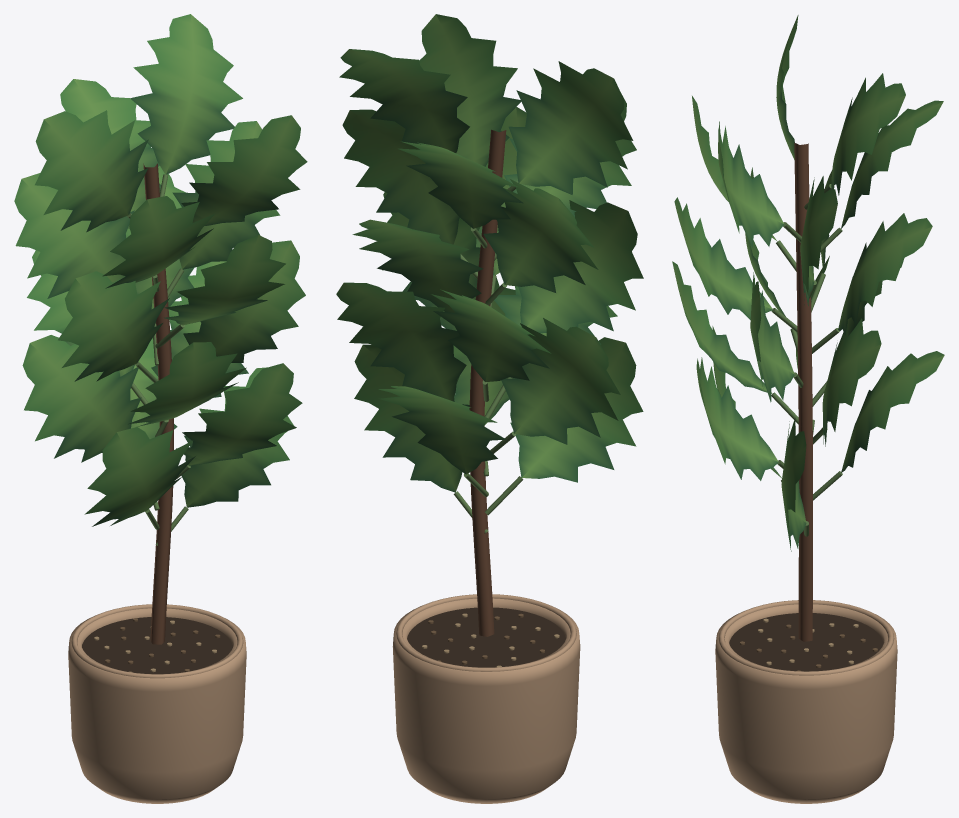
File: officeFiddleFig.glb
3 renders of one model, left to right at view 1: azimuth 30°, elevation 25°; view 2: azimuth 150°, elevation 25°; view 3: azimuth 270°, elevation 25°, orthographic. The views are drawn at different scales.
Size of the model in its own units: 0.7148 by 1.84 by 0.6283.
